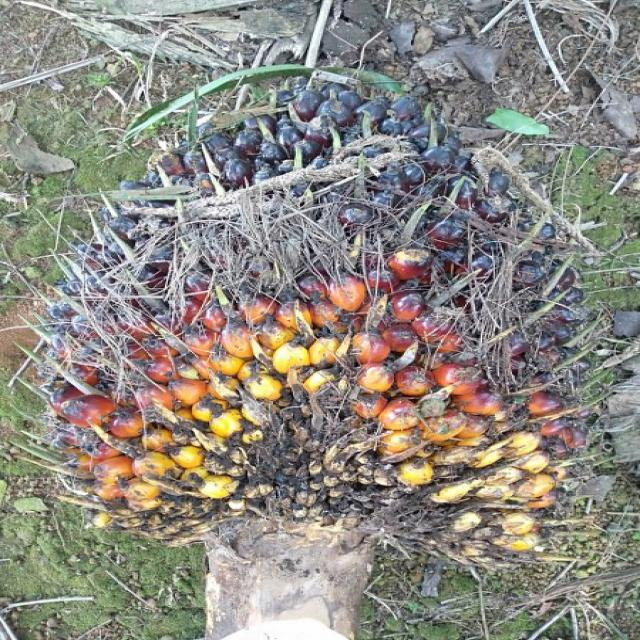fraksi 1: (0, 55, 640, 605)
